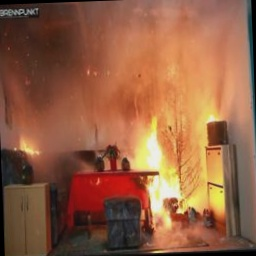fire: (131, 99, 218, 224)
